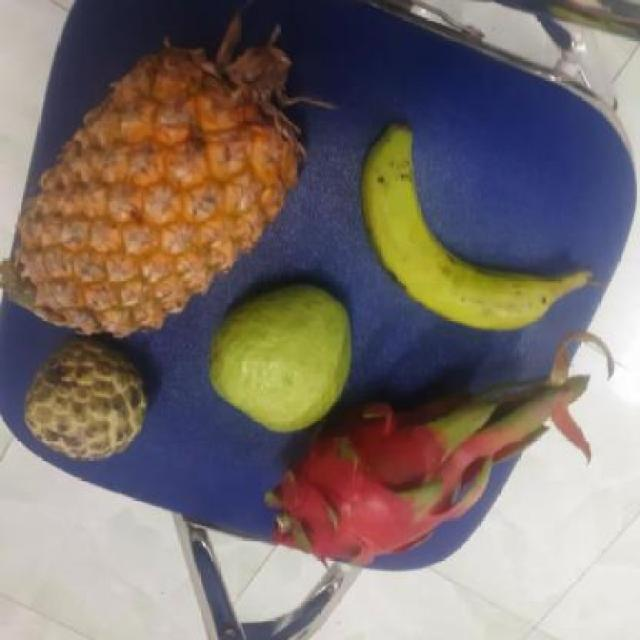banana: (363, 136, 585, 330)
dragon fruit: (276, 396, 472, 570)
guava: (208, 285, 357, 430)
pineapple: (24, 55, 311, 327)
sugar apple: (23, 337, 157, 458)
